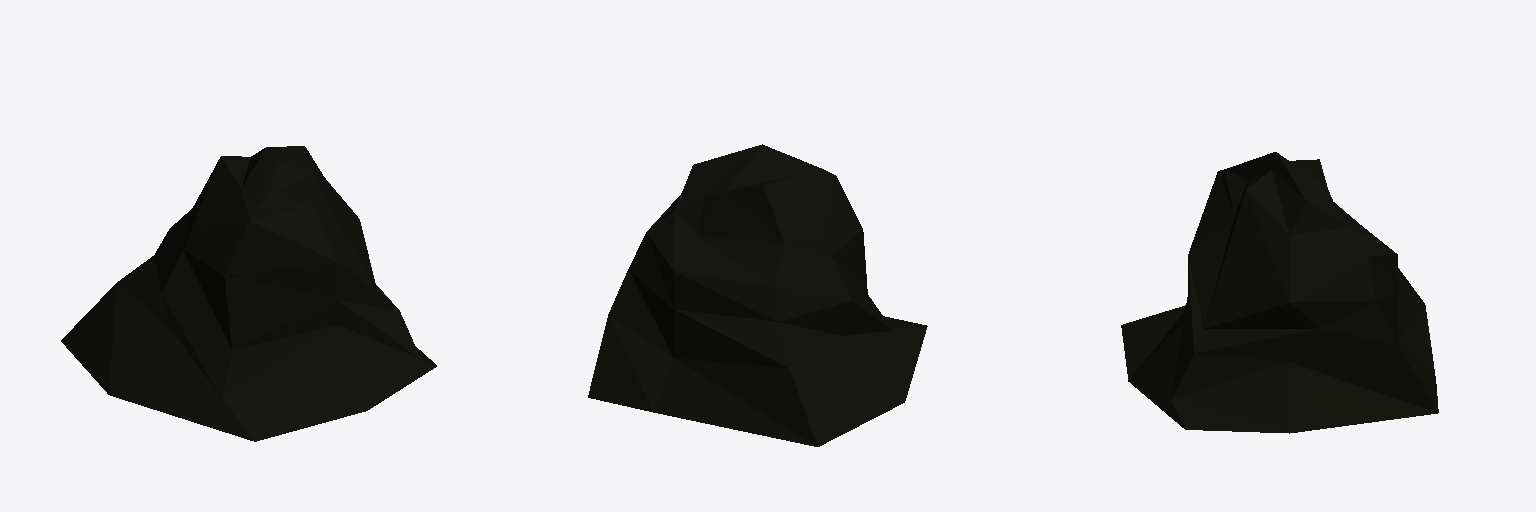
Rendered from LProck3.obj.
The picture shows the model from 3 angles: view 1: azimuth 30°, elevation 25°; view 2: azimuth 150°, elevation 25°; view 3: azimuth 270°, elevation 25°; orthographic projection.
Visible parts, largest first — view 1: Cube_Cube.001; view 2: Cube_Cube.001; view 3: Cube_Cube.001.
Part boxes in pixels (bbox=[...]): Cube_Cube.001: bbox=[61, 146, 436, 441]; Cube_Cube.001: bbox=[588, 144, 927, 446]; Cube_Cube.001: bbox=[1121, 152, 1438, 433].
Size of the model in its own units: 3.13 by 2.28 by 3.04.